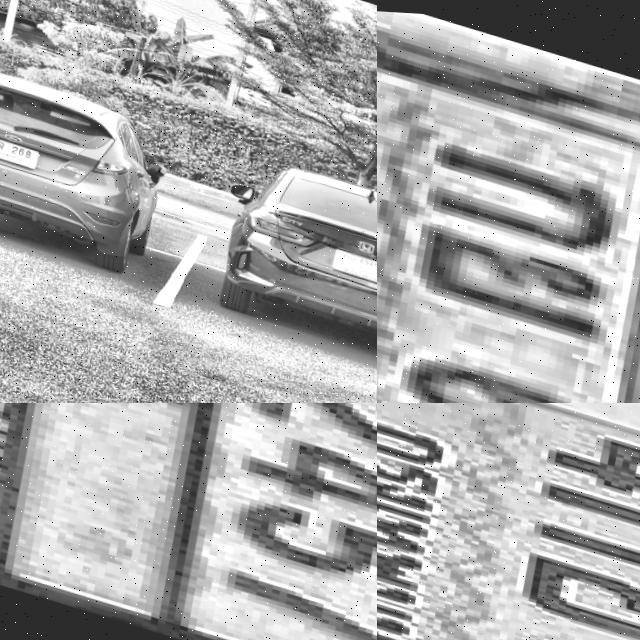license-plate: (377, 0, 640, 403), (0, 403, 377, 640), (377, 403, 640, 640), (200, 20, 243, 70), (139, 275, 180, 323)
